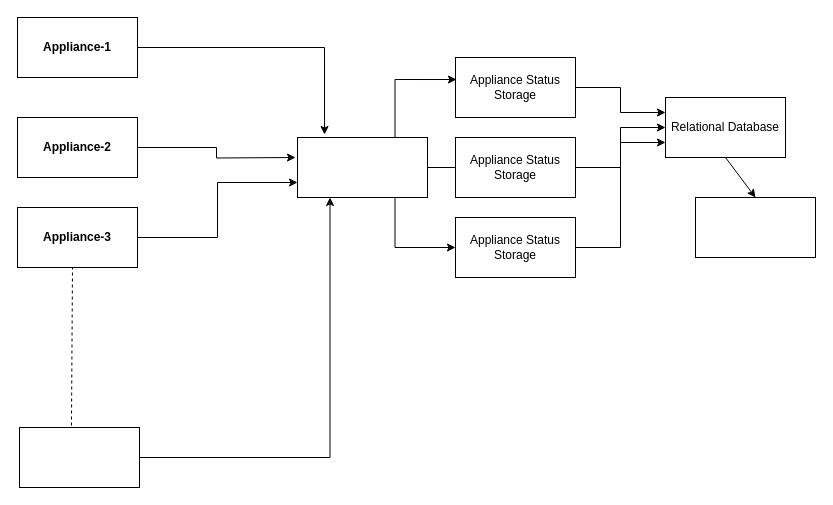
Some shapes in this 833 by 505 pixel diagram are drawn without their labels. The shapes that lost their labels are listed below. From the top down, each one's centre as x and y in pixels, then its label:
At point 362,167: "Load Balancer".
At point 755,227: "Relational Database - Replica".
At point 79,457: "Appliance-N".
